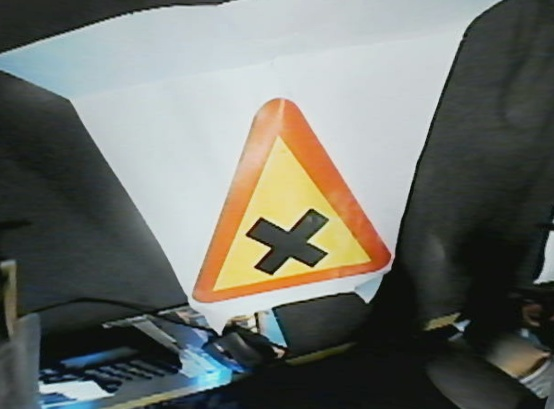junction: (178, 96, 405, 318)
